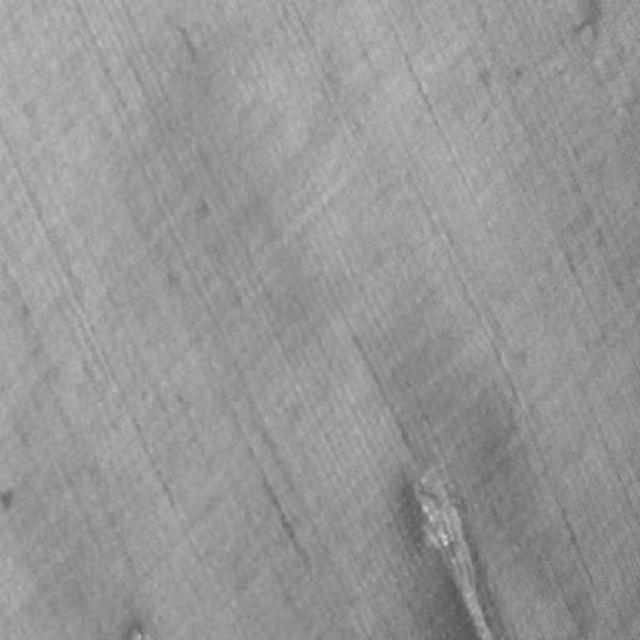seam: (357, 410, 560, 640)
